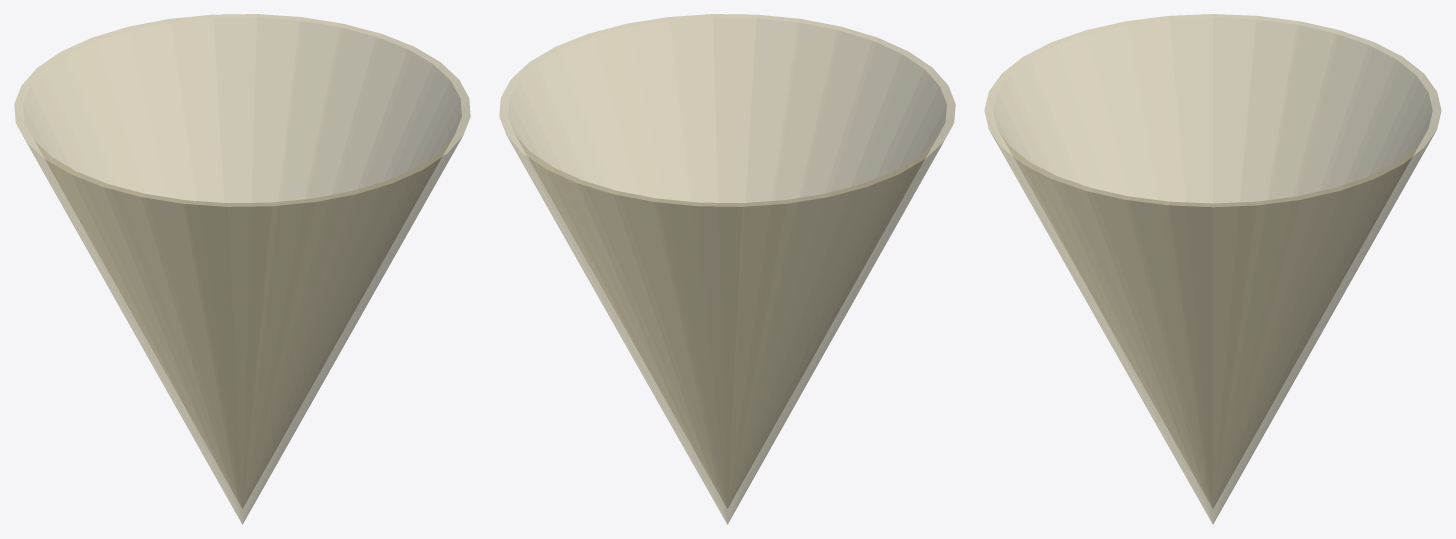
3 renders of one model, left to right at view 1: azimuth 30°, elevation 25°; view 2: azimuth 150°, elevation 25°; view 3: azimuth 270°, elevation 25°, orthographic.
Parts seen in each view (by area): view 1: Cone_WP; view 2: Cone_WP; view 3: Cone_WP.
Part boxes in pixels (box(x1,y1,x2,y2)): Cone_WP: box(14, 14, 470, 524); Cone_WP: box(499, 14, 955, 524); Cone_WP: box(984, 14, 1441, 523).
Bounding box in the file's own units: 0.391 × 0.391 × 0.391.
